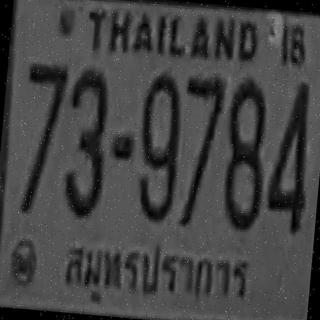N03: (59, 66, 111, 216)
N04: (264, 78, 314, 232)
N07: (16, 61, 68, 213), (174, 74, 224, 225), (176, 73, 224, 191), (20, 60, 68, 172)
N08: (219, 76, 269, 228)
N09: (133, 71, 183, 221)
P57: (57, 230, 254, 308)
